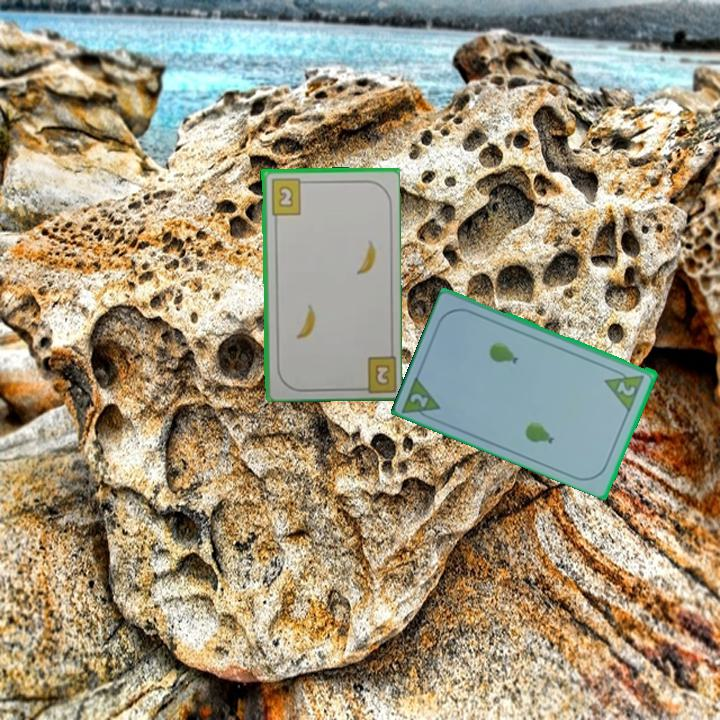2b: (267, 175, 309, 217), (371, 360, 392, 388)
2p: (400, 371, 444, 424), (602, 364, 647, 413)
